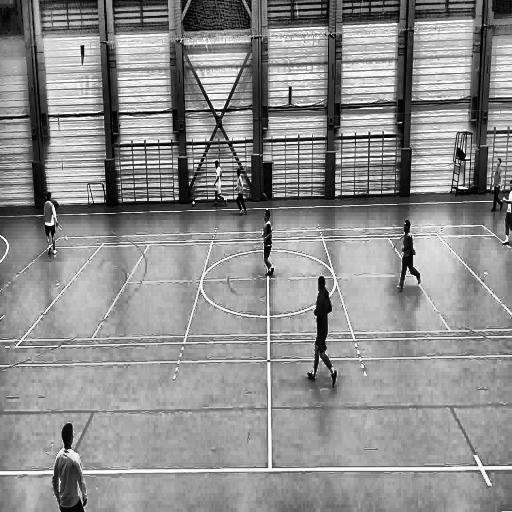ball: (191, 198, 197, 208)
player: (306, 268, 337, 389), (50, 422, 88, 512), (395, 219, 421, 293), (42, 190, 58, 258), (262, 208, 276, 279), (212, 159, 229, 209), (490, 156, 504, 214), (233, 168, 249, 217), (502, 176, 512, 248)
